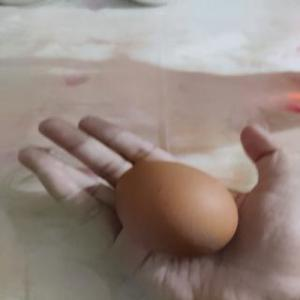egg: (112, 160, 238, 256)
